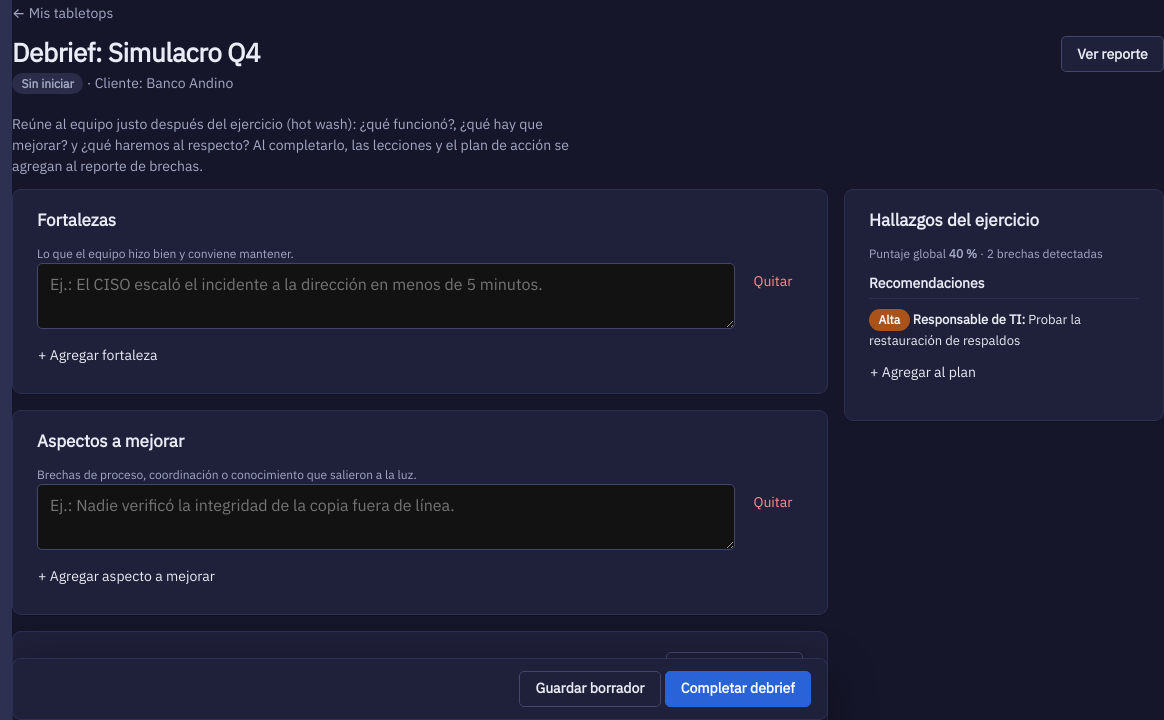
Test: Debrief (PC-45) › al completar muestra lo que falta
Expected: the heading "Debrief: Simulacro Q4" is shown, [12,36,260,68]
Click the button "Completar debrief".
click(738, 689)  # box [665,671,811,707]
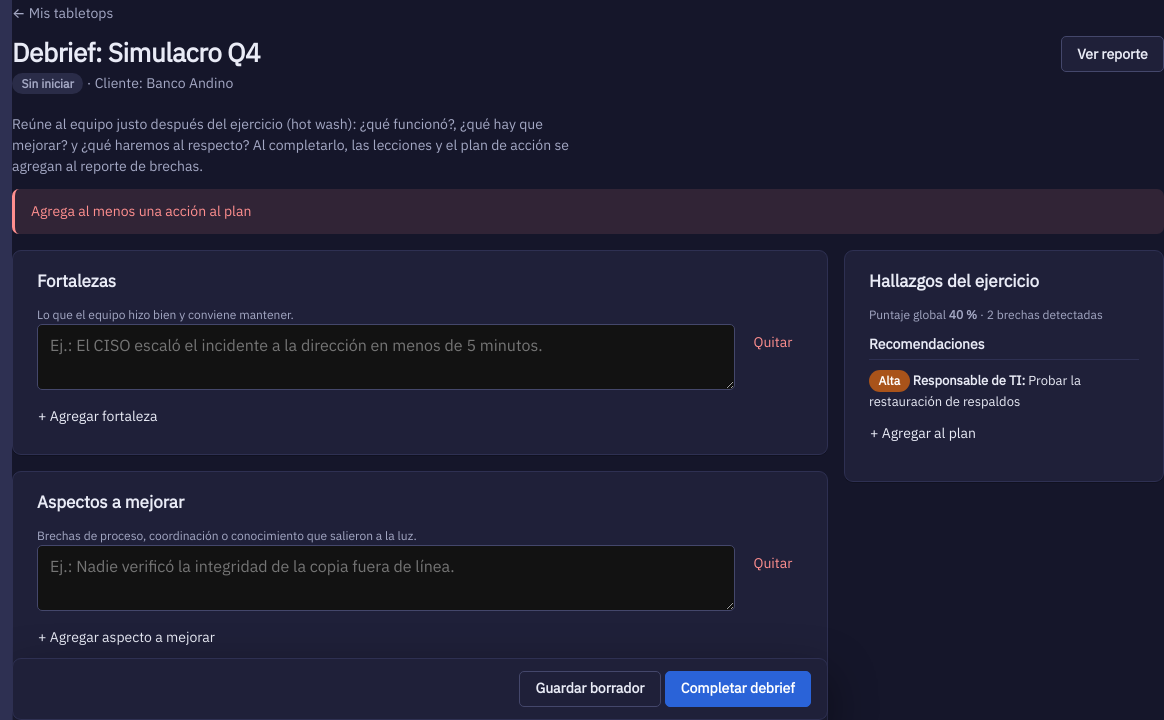
Now the text "Agrega al menos una acción al plan" is shown, box [12,189,1163,234]
